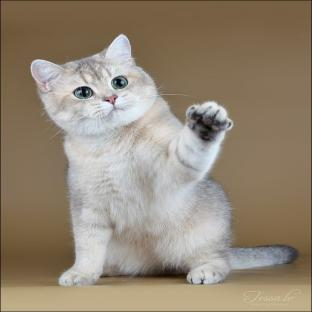Animal: (31, 34, 297, 286)
